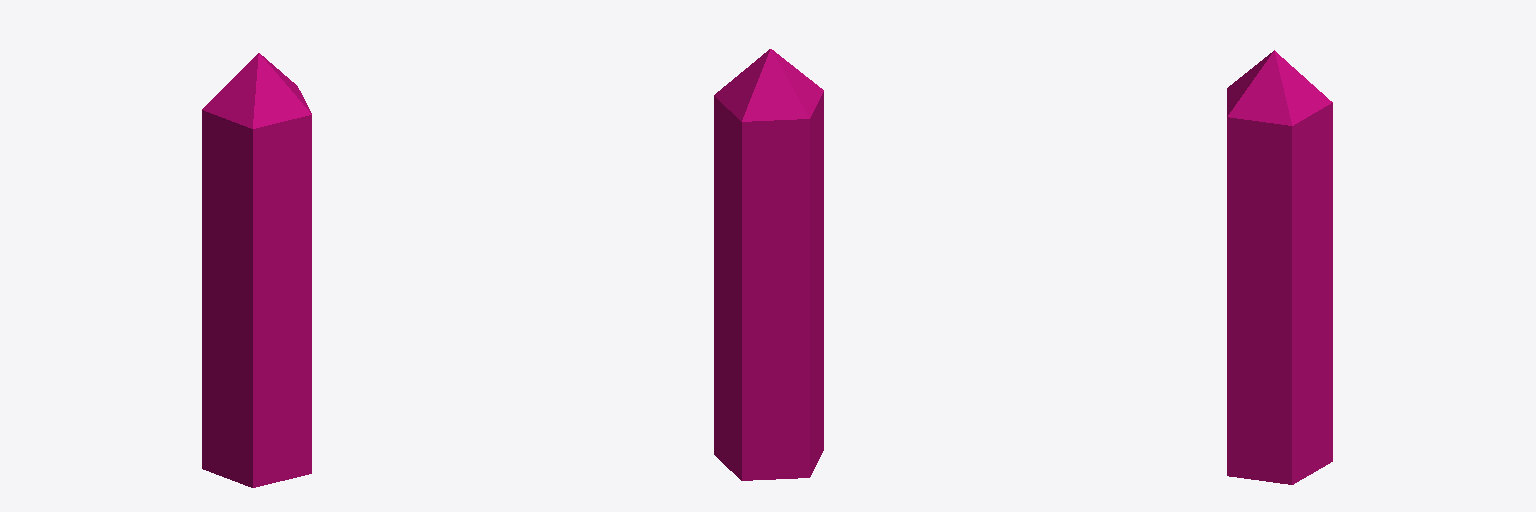
File: Crystal_Periph.obj
3 views of the same model, side by side, from view 1: azimuth 30°, elevation 25°; view 2: azimuth 150°, elevation 25°; view 3: azimuth 270°, elevation 25° (orthographic).
Visible parts, largest first — view 1: Cylinder; view 2: Cylinder; view 3: Cylinder.
Boxes of the visible parts, x1=… form: Cylinder: x1=202, y1=53, x2=311, y2=487; Cylinder: x1=714, y1=49, x2=823, y2=480; Cylinder: x1=1227, y1=50, x2=1332, y2=484.
Bounding box in the file's own units: 1.14 × 4.66 × 1.09.